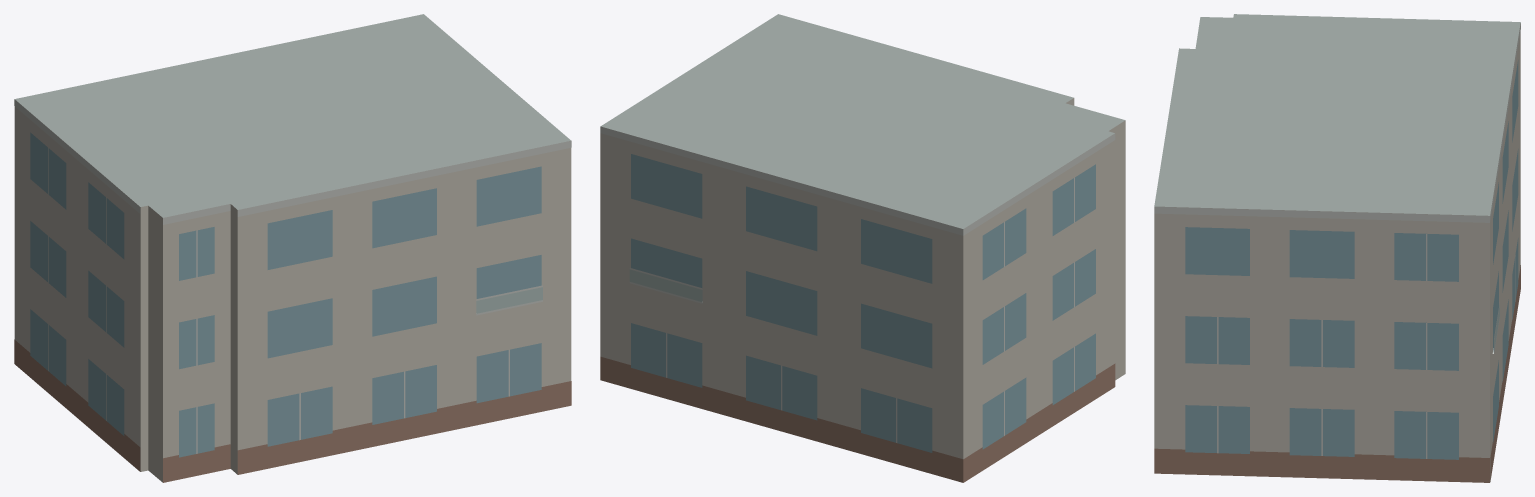
Rendered from survey-upis-33047266.glb.
The picture shows the model from 3 angles, left to right: view 1: azimuth 30°, elevation 25°; view 2: azimuth 150°, elevation 25°; view 3: azimuth 270°, elevation 25°; orthographic projection. The views are drawn at different scales.
Visible parts, largest first — view 1: survey-upis-33047266.tmp; view 2: survey-upis-33047266.tmp; view 3: survey-upis-33047266.tmp.
Boxes of the visible parts, <box> form: survey-upis-33047266.tmp: <box>14,14,571,482</box>; survey-upis-33047266.tmp: <box>600,14,1125,482</box>; survey-upis-33047266.tmp: <box>1154,14,1520,482</box>.
Bounding box in the file's own units: 14.84 × 9.15 × 11.39.
